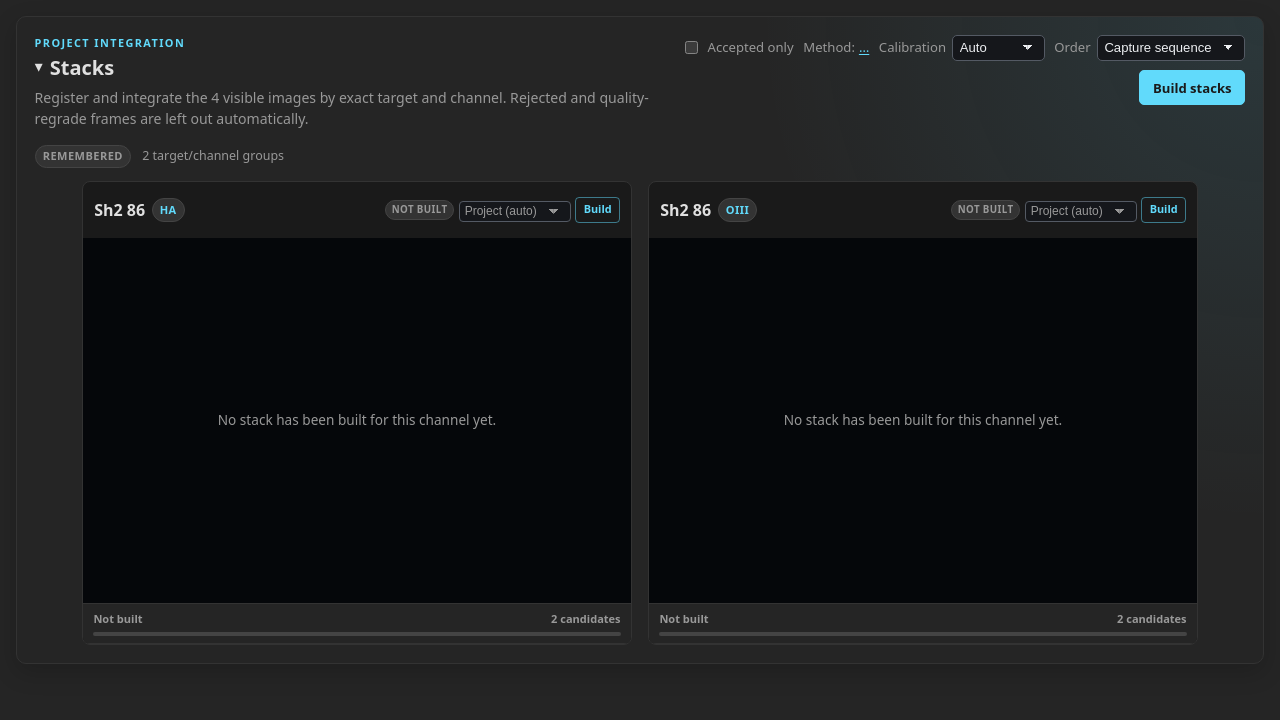
Test: StackPreviewPanel manual queue › keeps other channels buildable and shows both queued builds
What coordinates should you click on to do the following:
click the button with aria-label "Build channel"
I would click on:
 (598, 210)
Its box is left=576, top=197, right=620, bottom=223.
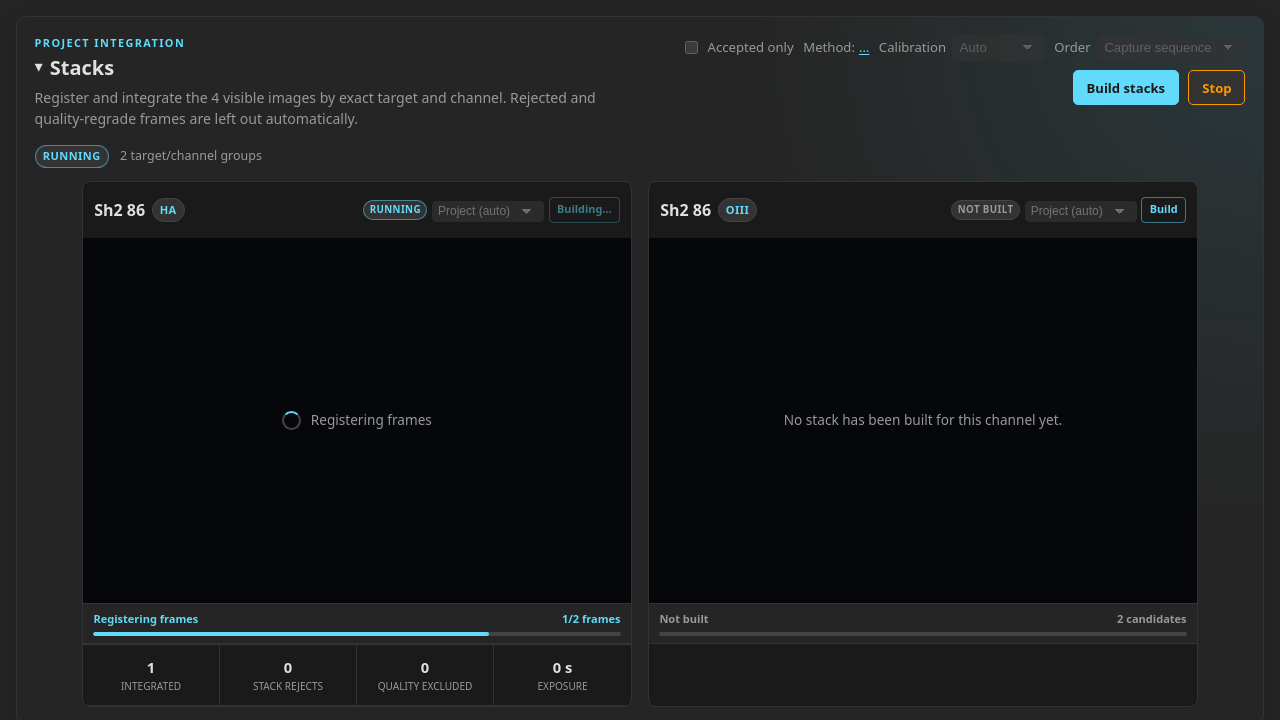
Expected: the text "1/2 frames" is shown, left=562, top=611, right=621, bottom=627
// Queue the second channel behind the first.
What coordinates should you click on to do the following:
click the button with aria-label "Build channel"
I would click on:
 (1164, 210)
Its box is left=1142, top=197, right=1186, bottom=223.
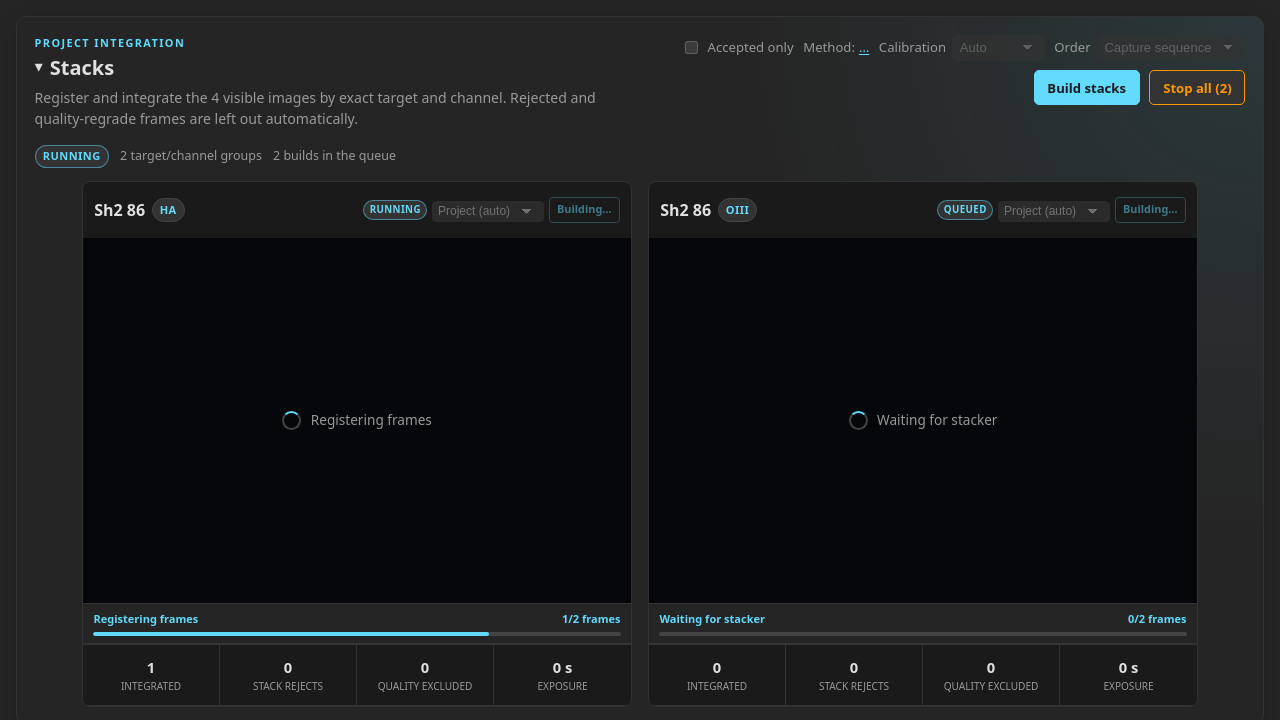
Expected: the button "Stop all (2)" is enabled, left=1149, top=70, right=1245, bottom=105
Expected: the text "2 builds in the queue" is shown, left=273, top=147, right=396, bottom=166
Expected: the text "Waiting for stacker" is shown, left=649, top=238, right=1197, bottom=603
